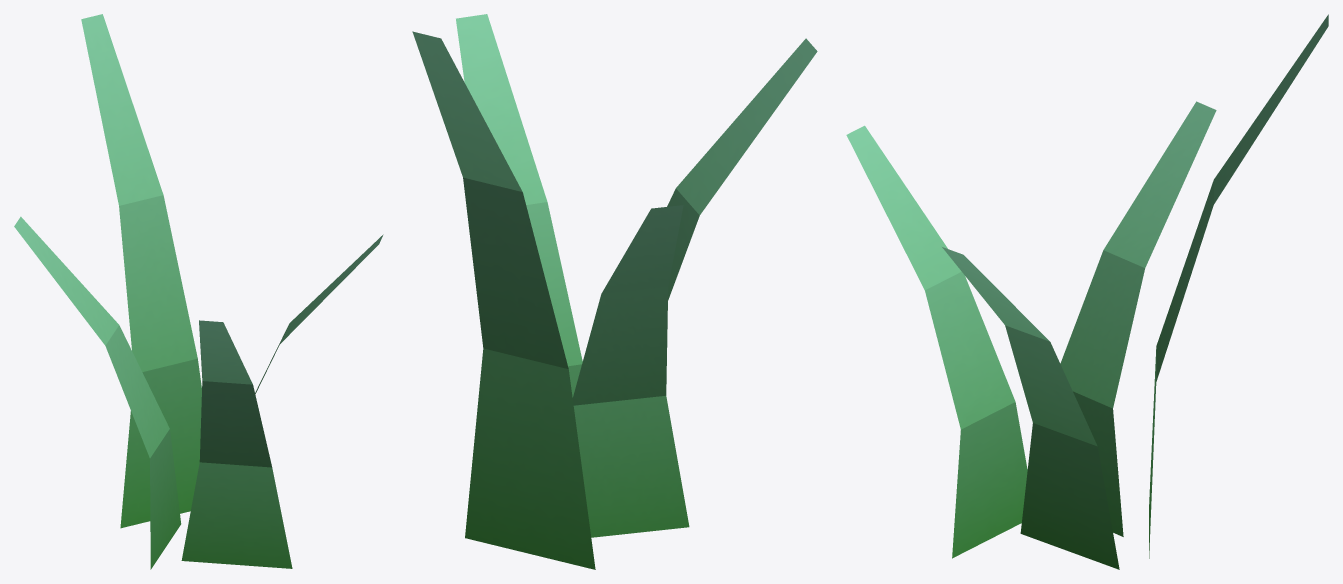
Rendered from yerba4.fbx.
The picture shows the model from 3 angles, left to right: view 1: azimuth 30°, elevation 25°; view 2: azimuth 150°, elevation 25°; view 3: azimuth 270°, elevation 25°; orthographic projection. The views are drawn at different scales.
Parts seen in each view (by area): view 1: yerba4; view 2: yerba4; view 3: yerba4.
Part boxes in pixels (x1,y1,x2,y2): yerba4: (14, 14, 383, 569); yerba4: (412, 14, 817, 569); yerba4: (846, 14, 1328, 569).
Bounding box in the file's own units: 22.01 × 34.57 × 29.26.
1 material, 1 textured.
